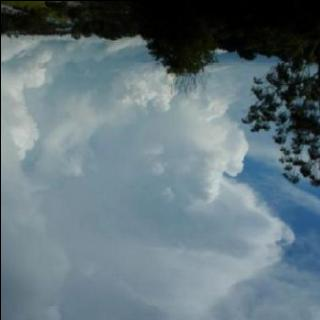Cumulonimbus: (0, 29, 320, 320)
